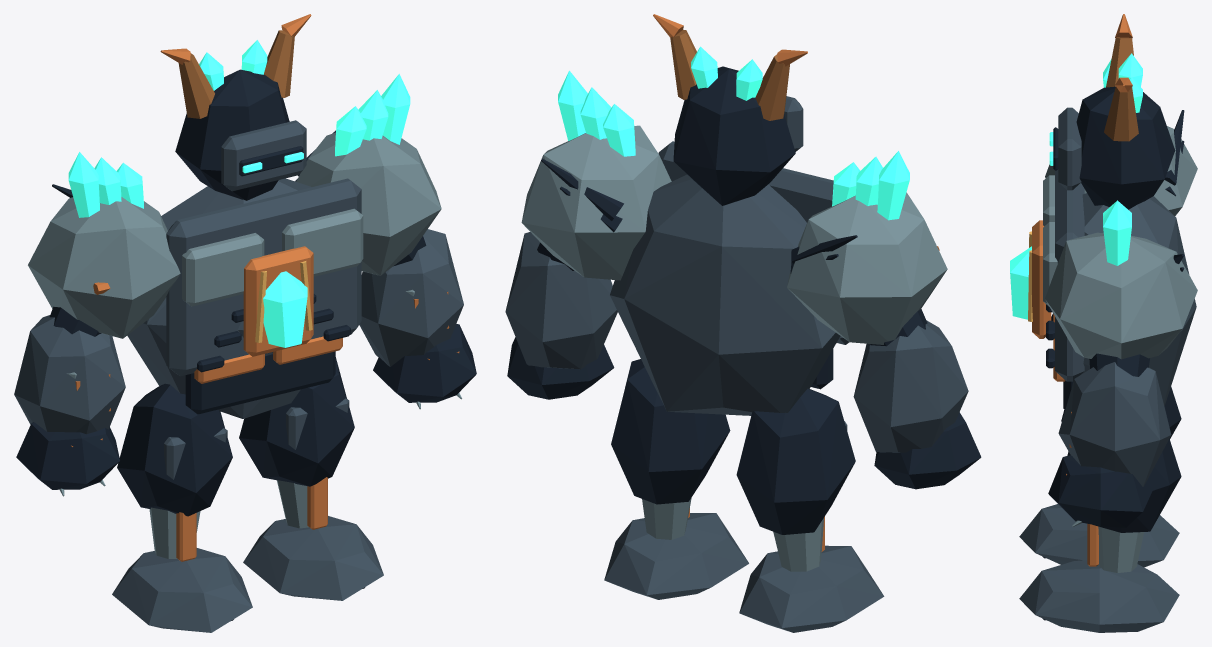
The model's file is Hollow_Warden.gltf.
The picture shows the model from 3 angles, left to right: view 1: azimuth 30°, elevation 25°; view 2: azimuth 150°, elevation 25°; view 3: azimuth 270°, elevation 25°; orthographic projection. The views are drawn at different scales.
Visible parts, largest first — view 1: Pauldron_Mesh (×2), Gauntlet_Mesh (×2), Armoured_Thigh_Mesh (×2), Iron_Boot_Mesh (×2), Breastplate_Mesh, Fist_Mesh (×2), Pectoral_Mesh (×2), Hollow_Helm_Mesh, Pauldron_Spike_Mesh (×6), Armoured_Torso_Mesh, Lower_Cuirass_Mesh, Faceplate_Mesh (+10 smaller); view 2: Armoured_Torso_Mesh, Pauldron_Mesh (×2), Armoured_Thigh_Mesh (×2), Gauntlet_Mesh (×2), Iron_Boot_Mesh (×2), Hollow_Helm_Mesh, Fist_Mesh (×2), Pauldron_Spike_Mesh (×6), Greave_Mesh (×2), Crown_Horn_Mesh (×2), Breastplate_Mesh, Crown_Crystal_Mesh (×2) (+2 smaller); view 3: Pauldron_Mesh (×2), Iron_Boot_Mesh (×2), Gauntlet_Mesh, Hollow_Helm_Mesh, Fist_Mesh, Armoured_Torso_Mesh, Breastplate_Mesh, Armoured_Thigh_Mesh (×2), Crown_Horn_Mesh (×2), Faceplate_Mesh, Greave_Mesh, Pauldron_Spike_Mesh (+7 smaller).
Boxes of the visible parts, x1,y1,x2,y2 form: Pauldron_Mesh (×2): [28, 132, 441, 338]; Gauntlet_Mesh (×2): [14, 229, 463, 434]; Armoured_Thigh_Mesh (×2): [117, 357, 354, 516]; Iron_Boot_Mesh (×2): [112, 516, 383, 632]; Breastplate_Mesh: [166, 178, 361, 376]; Fist_Mesh (×2): [16, 324, 476, 489]; Pectoral_Mesh (×2): [182, 208, 363, 306]; Hollow_Helm_Mesh: [175, 69, 289, 200]; Pauldron_Spike_Mesh (×6): [68, 74, 410, 217]; Armoured_Torso_Mesh: [127, 178, 311, 418]; Lower_Cuirass_Mesh: [185, 351, 335, 414]; Faceplate_Mesh: [221, 120, 306, 191]; Armoured_Torso_Mesh: [610, 174, 840, 415]; Pauldron_Mesh (×2): [521, 125, 947, 344]; Armoured_Thigh_Mesh (×2): [611, 359, 855, 534]; Gauntlet_Mesh (×2): [505, 232, 968, 452]; Iron_Boot_Mesh (×2): [604, 513, 884, 632]; Hollow_Helm_Mesh: [673, 66, 795, 205]; Fist_Mesh (×2): [507, 337, 981, 489]; Pauldron_Spike_Mesh (×6): [558, 70, 909, 220]; Greave_Mesh (×2): [642, 498, 823, 571]; Crown_Horn_Mesh (×2): [670, 30, 789, 120]; Breastplate_Mesh: [658, 141, 849, 344]; Crown_Crystal_Mesh (×2): [691, 46, 762, 100]; Pauldron_Mesh (×2): [1045, 126, 1197, 359]; Iron_Boot_Mesh (×2): [1019, 504, 1179, 632]; Gauntlet_Mesh: [1058, 362, 1171, 486]; Hollow_Helm_Mesh: [1076, 86, 1175, 209]; Fist_Mesh: [1048, 455, 1153, 527]; Armoured_Torso_Mesh: [1081, 193, 1196, 406]; Breastplate_Mesh: [1055, 169, 1084, 381]; Armoured_Thigh_Mesh (×2): [1061, 386, 1181, 532]; Crown_Horn_Mesh (×2): [1104, 37, 1138, 141]; Faceplate_Mesh: [1058, 107, 1081, 190]; Greave_Mesh: [1098, 526, 1143, 572]; Pauldron_Spike_Mesh: [1103, 200, 1131, 265].
Bounding box in the file's own units: 3.86 × 4.64 × 1.46.
